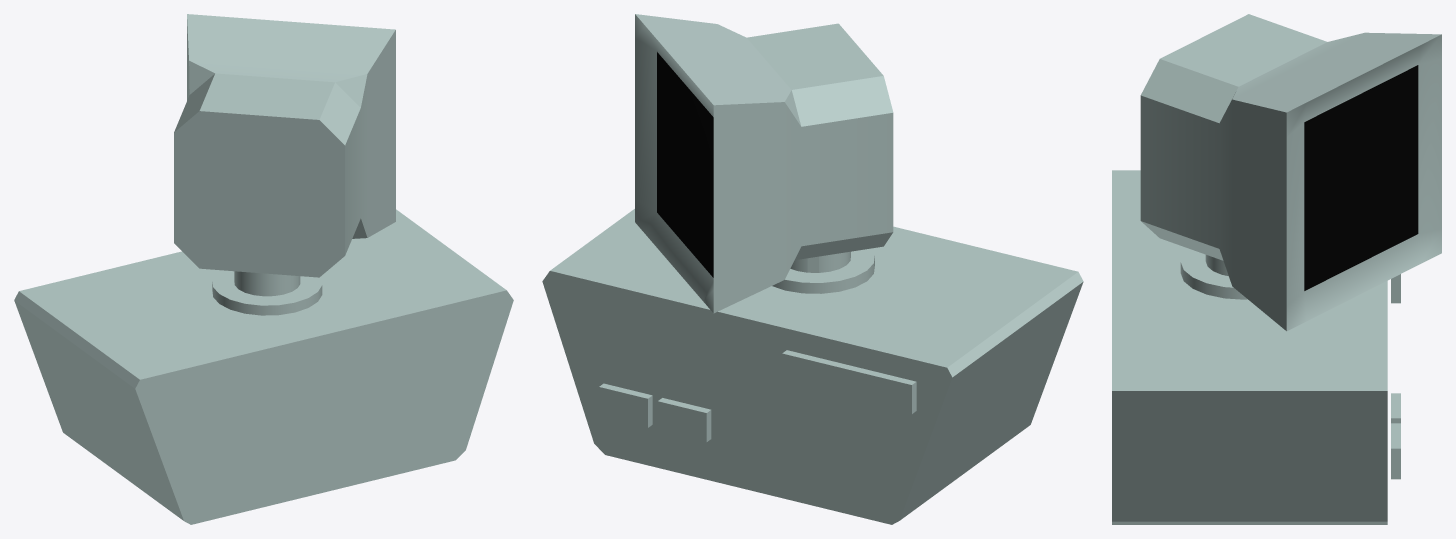
3 views of the same model, side by side, from view 1: azimuth 30°, elevation 25°; view 2: azimuth 150°, elevation 25°; view 3: azimuth 270°, elevation 25° (orthographic). The views are drawn at different scales.
Parts seen in each view (by area): view 1: PC, Monitor, BaseMonitor1, BaseMonitor; view 2: PC, Monitor, Lector, BaseMonitor1, Boton1, Boton, BaseMonitor; view 3: Monitor, PC, BaseMonitor1, Boton.
Part boxes in pixels (left/top/right/bottom): PC: left=14, top=209, right=513, bottom=524; Monitor: left=174, top=14, right=395, bottom=277; BaseMonitor1: left=212, top=270, right=322, bottom=315; BaseMonitor: left=234, top=271, right=300, bottom=296; PC: left=542, top=209, right=1083, bottom=524; Monitor: left=635, top=14, right=893, bottom=313; Lector: left=782, top=350, right=916, bottom=414; BaseMonitor1: left=772, top=248, right=874, bottom=293; Boton1: left=657, top=398, right=711, bottom=442; Boton: left=599, top=383, right=652, bottom=427; BaseMonitor: left=790, top=251, right=850, bottom=272; Monitor: left=1140, top=14, right=1441, bottom=331; PC: left=1112, top=170, right=1387, bottom=524; BaseMonitor1: left=1180, top=249, right=1247, bottom=299; Boton: left=1391, top=423, right=1400, bottom=479.
Bounding box in the file's own units: 3.02 × 2.82 × 2.
Materials: 2 (2 with a texture image).
